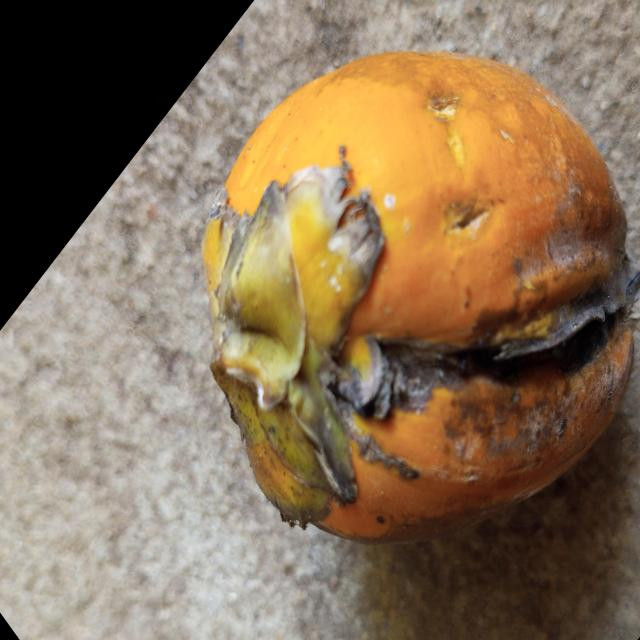damaged: (201, 52, 640, 548)
